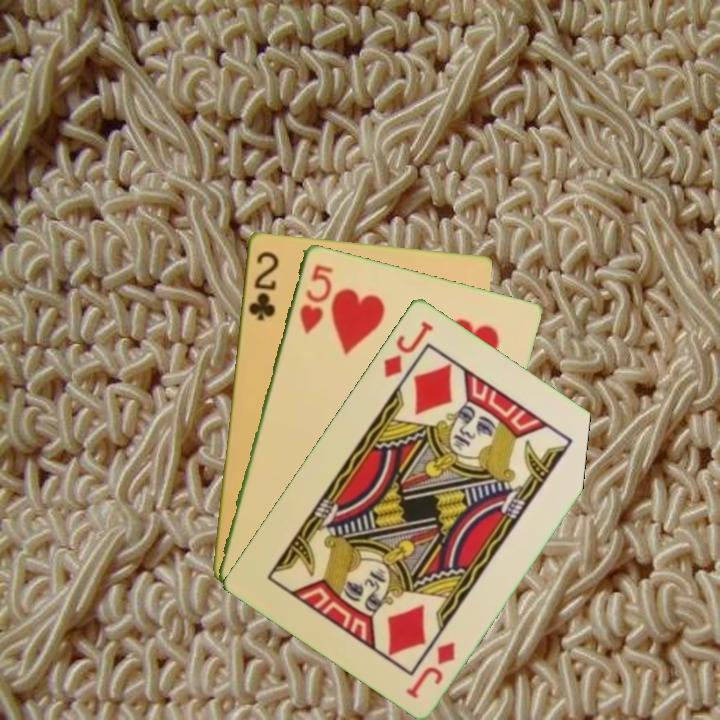2c: (244, 247, 281, 323)
5h: (295, 260, 336, 336)
Jd: (379, 317, 436, 381), (402, 637, 458, 701)
